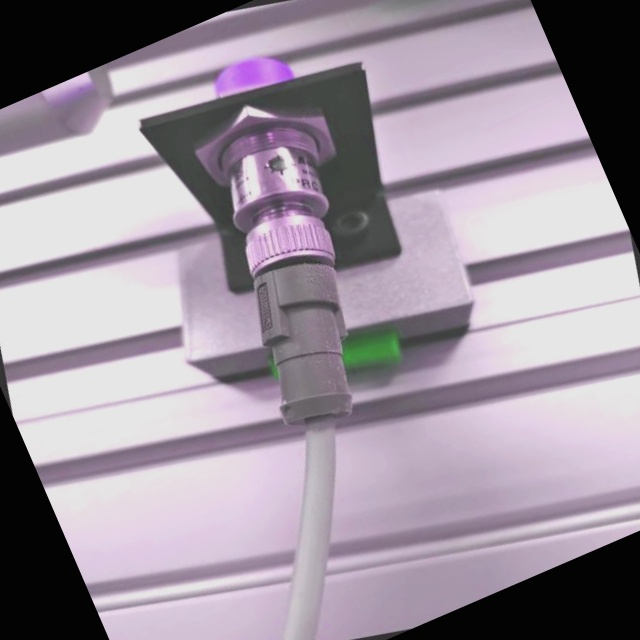inductive sensor: (31, 0, 585, 519)
